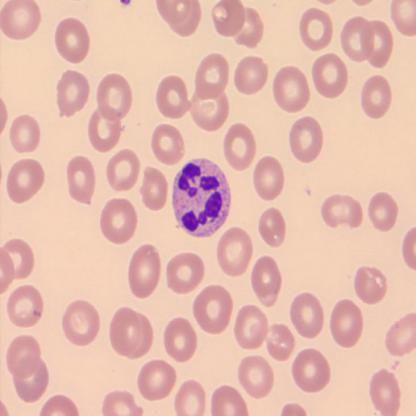Segmented neutrophil: (169, 155, 232, 240)
